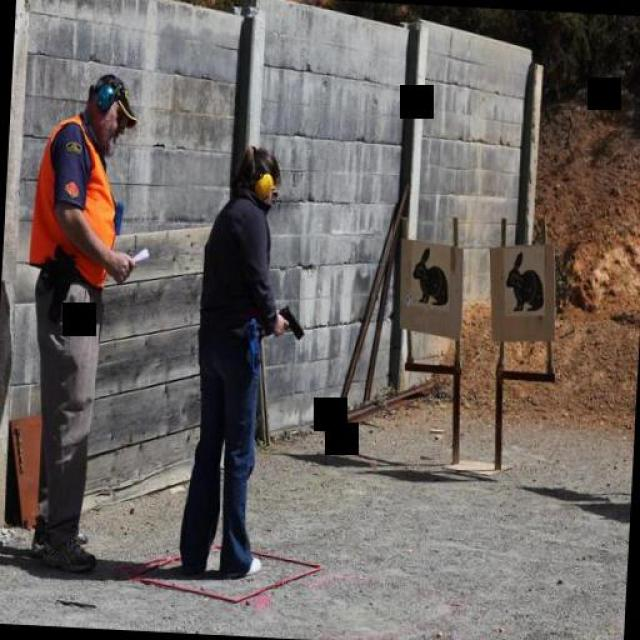gun: (269, 290, 305, 340)
